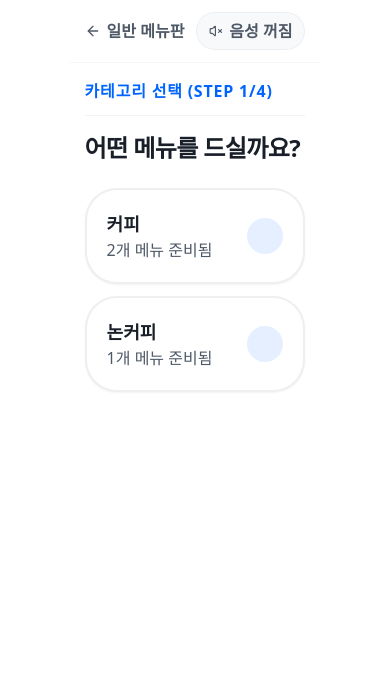
Scenario: WizardOrderView & One-Handed Layout › does not duplicate items in cart when navigating back from step 4 to step 3
Step 1. Click the button "커피 2개 메뉴 준비됨" → (195, 236), box [85,188,305,284]
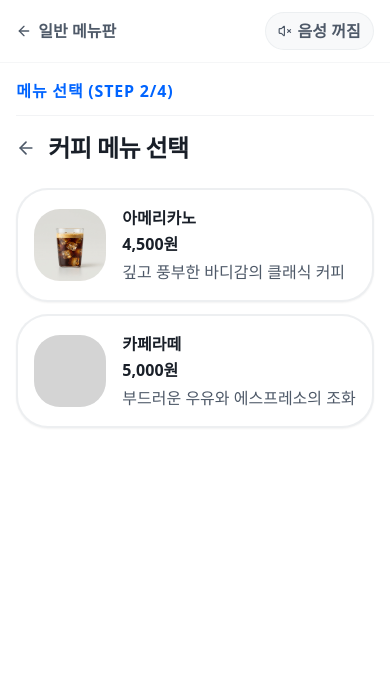
Step 2. Click the button "아메리카노 4,500원 깊고 풍부한 바디감의 클래식 커피" → (70, 245), box [16,188,374,302]
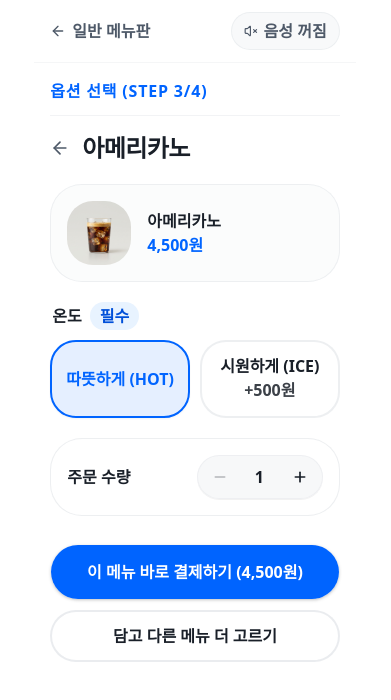
Click direct checkout
Step 3. Click the button "이 메뉴 바로 결제하기 (4,500원)" → (195, 572), box [50,544,340,600]
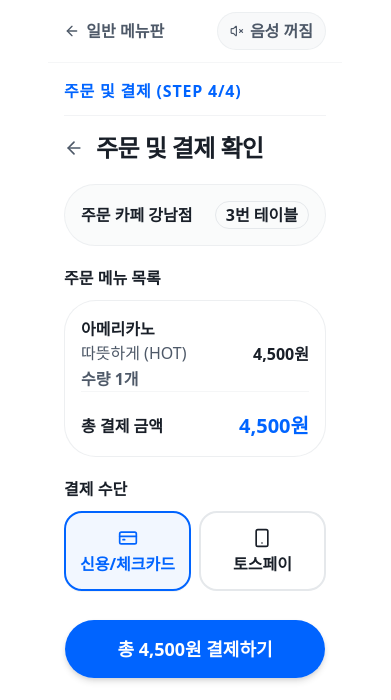
Check: the heading "주문 및 결제 확인" is shown, box [96,132,263,164]
Navigate back to Step 3
Step 4. Click the button named "이전 화면으로 돌아가기" → (74, 148), box [60,134,88,162]
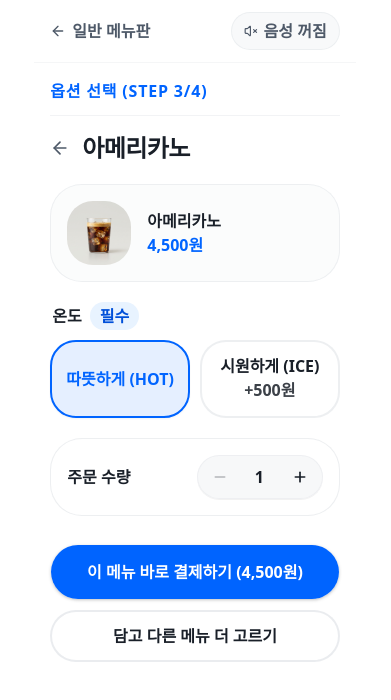
Check: the radio button labelled "따뜻하게 (HOT)" is shown, box [50,340,190,418]
Click direct checkout again
Step 5. Click the button "이 메뉴 바로 결제하기 (4,500원)" → (195, 572), box [50,544,340,600]
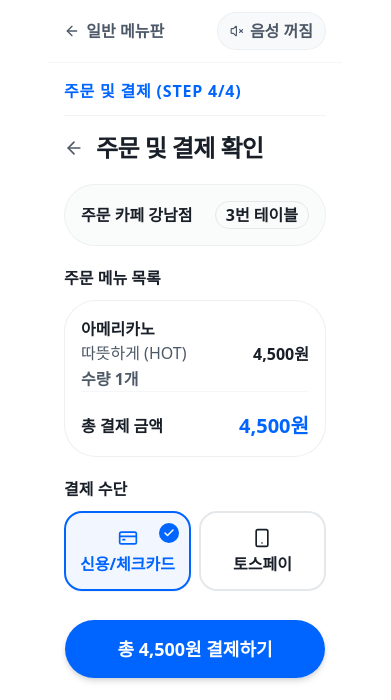
Check: the heading "주문 및 결제 확인" is shown, box [96,132,263,164]
Check: the text "총 4,500원 결제하기" is shown, box [118,635,272,663]
